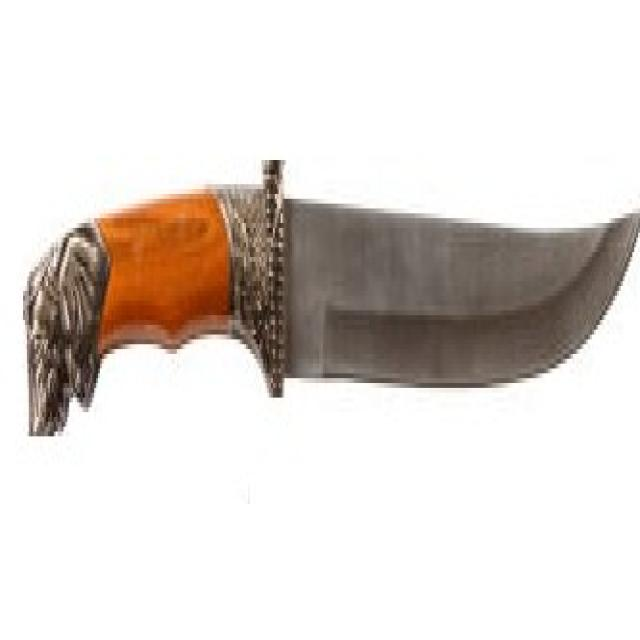knife: (22, 142, 640, 457)
